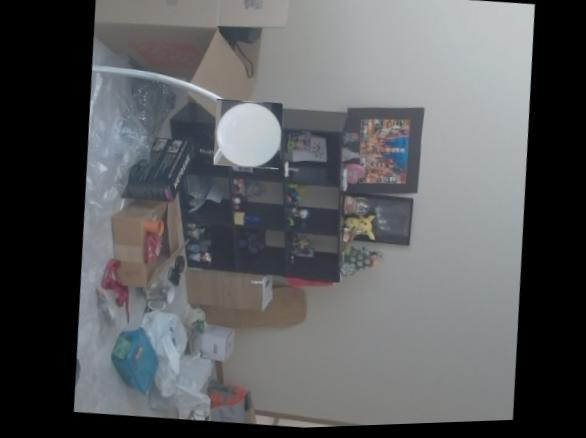Fan: (209, 98, 284, 172)
